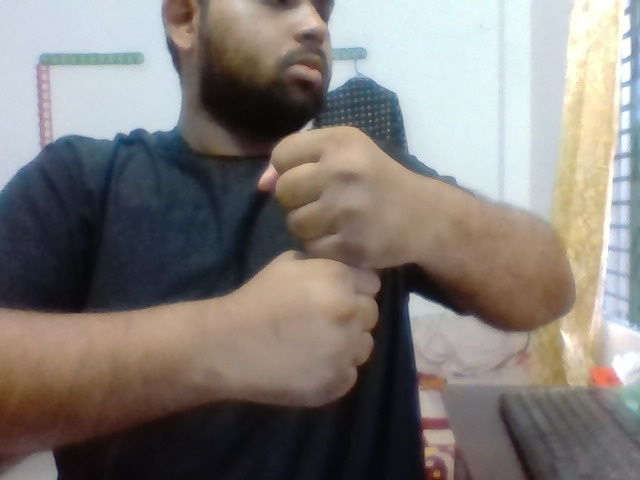G: (257, 122, 405, 407)
